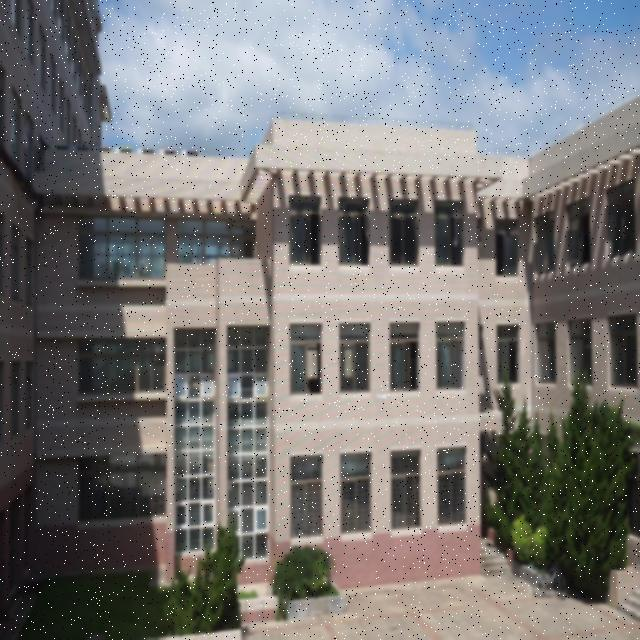UAV: (377, 394, 390, 404)
